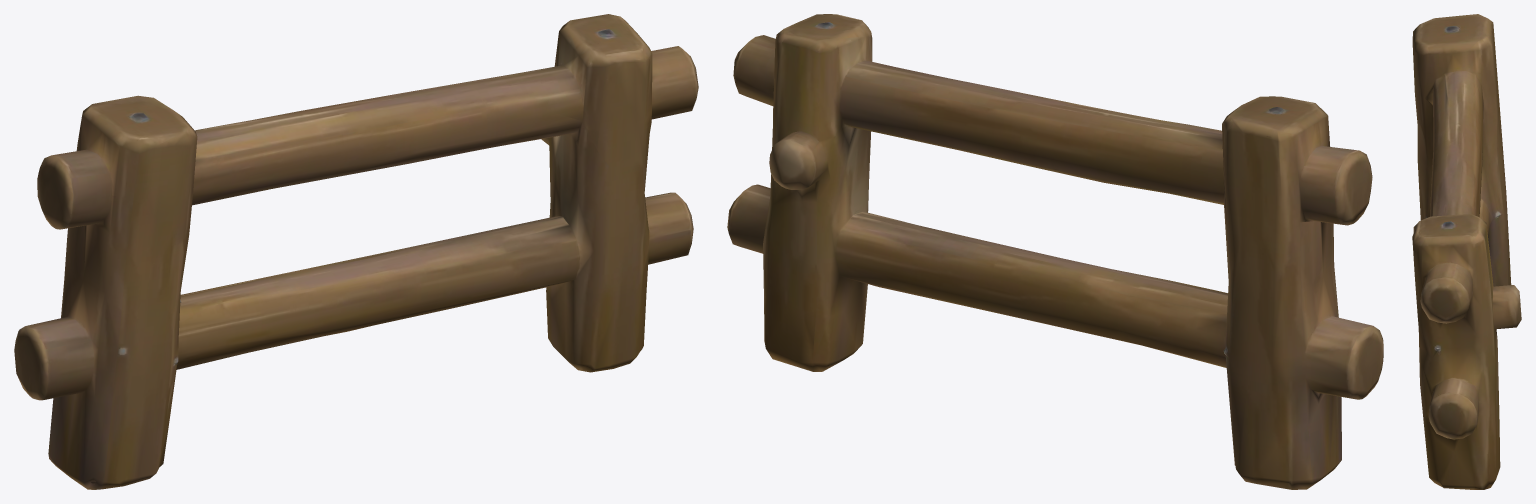
File: landing-rail.glb
The picture shows the model from 3 angles, left to right: view 1: azimuth 30°, elevation 25°; view 2: azimuth 150°, elevation 25°; view 3: azimuth 270°, elevation 25°; orthographic projection. The views are drawn at different scales.
Size of the model in its own units: 2 by 1.06 by 0.376.
1 material, 1 textured.
